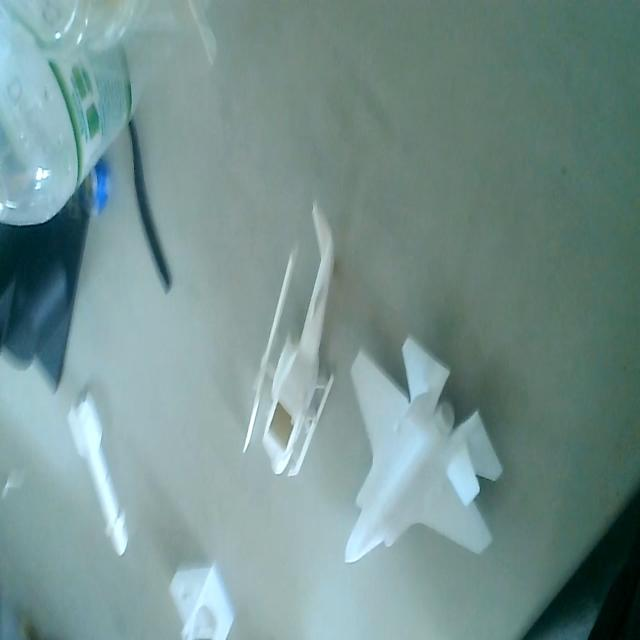Helicopter: (242, 205, 340, 497)
Jet: (336, 333, 504, 587)
Rocket: (68, 390, 128, 565)
